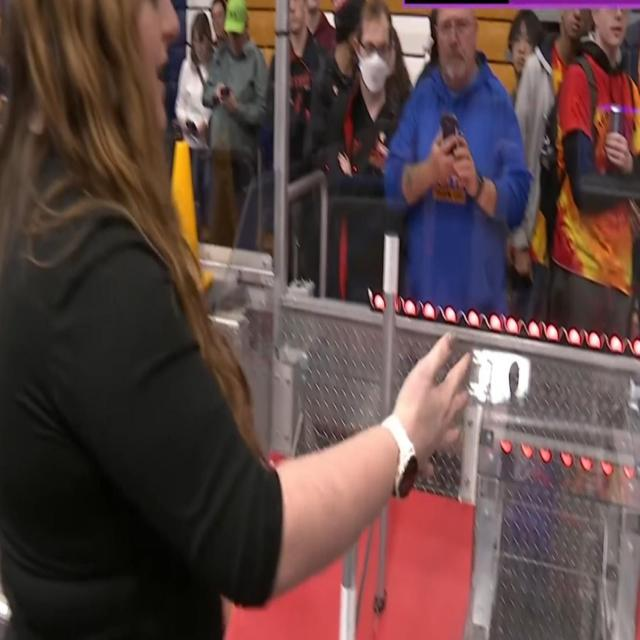frc_cone: (158, 139, 210, 299)
